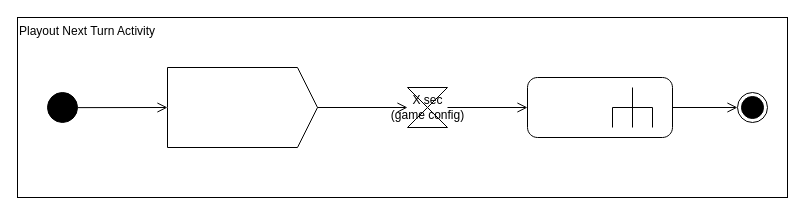
This 805x215 diagram has some shape labels left out. The shapes that lost their labels are listed below. From the top down, each one's centre as x and y in pixels, then its label:
the point at 242,107: Signal the current player what the play was and solicit return play.
the point at 599,107: Register Loss
